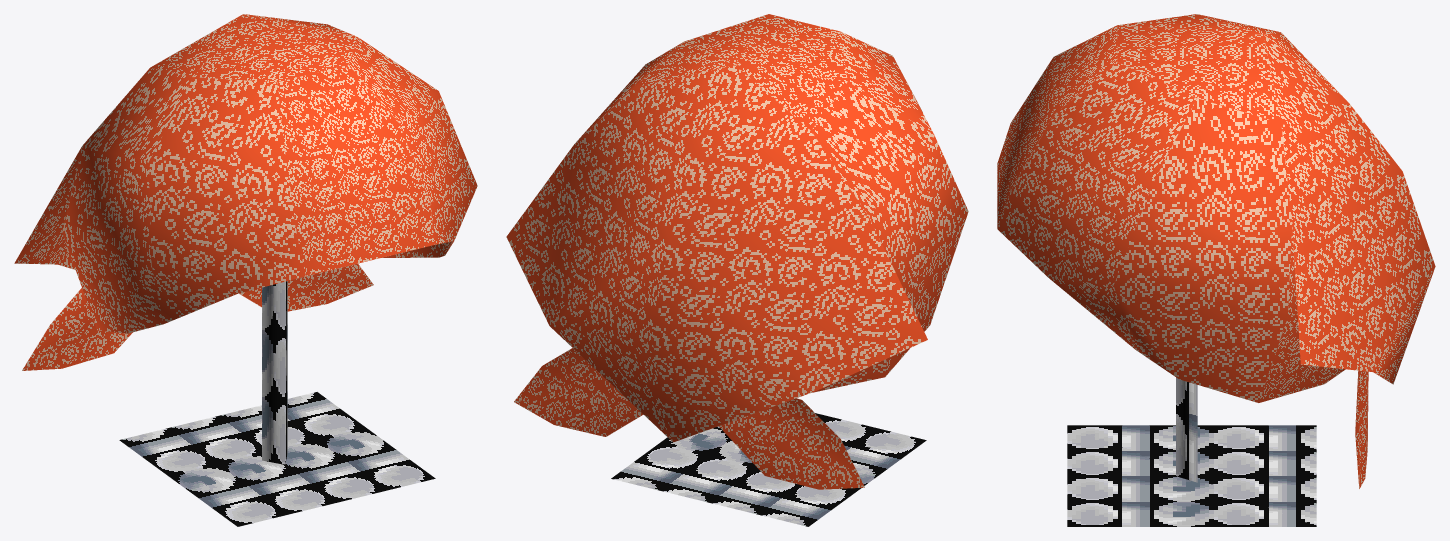
File: 2901head066_c.gltf
3 renders of one model, left to right at view 1: azimuth 30°, elevation 25°; view 2: azimuth 150°, elevation 25°; view 3: azimuth 270°, elevation 25°, orthographic. The views are drawn at different scales.
Visible parts, largest first — view 1: 2901head066_c; view 2: 2901head066_c; view 3: 2901head066_c.
Part boxes in pixels (x1,y1,x2,y2): 2901head066_c: (14, 14, 477, 526); 2901head066_c: (506, 14, 968, 526); 2901head066_c: (997, 14, 1435, 526).
Size of the model in its own units: 0.9868 by 0.946 by 0.8435.
2 materials, 2 textured.
